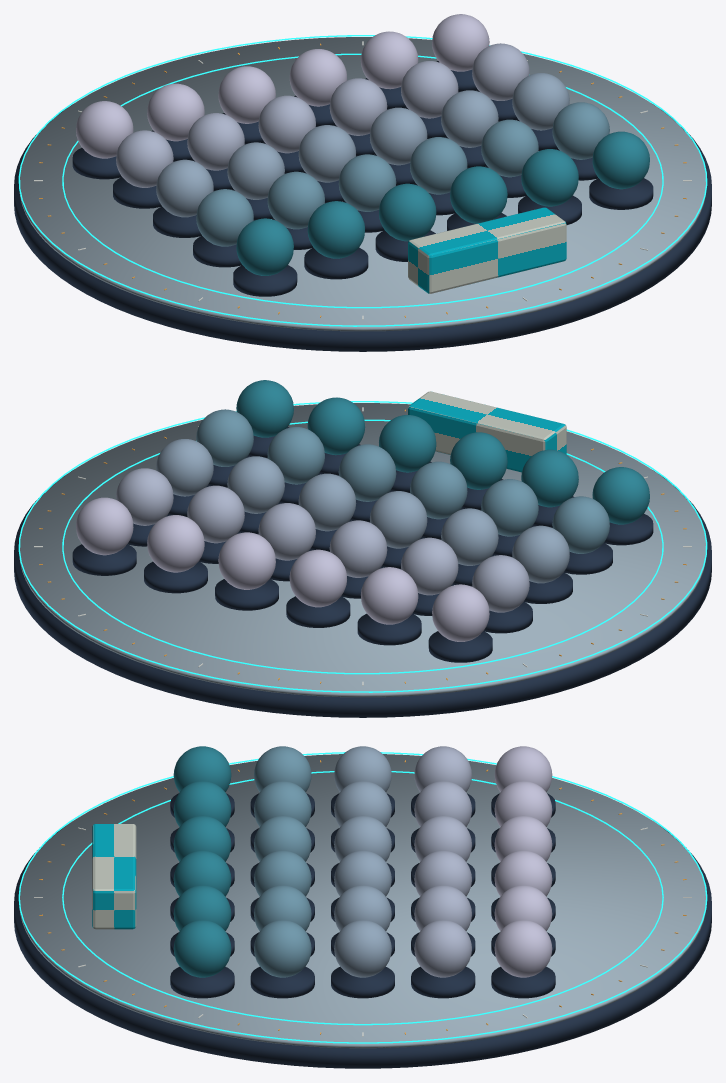
File: hub.glb
3 renders of one model, top to bottom at view 1: azimuth 30°, elevation 25°; view 2: azimuth 150°, elevation 25°; view 3: azimuth 270°, elevation 25°, orthographic.
Visible parts, largest first — view 1: Floating_plinth___crown, Floating_plinth___lower, UV_calibration_block, Concentric_wayfinding, Swatch_R0_C4, Swatch_R0_C5, Swatch_R0_C1, Swatch_R0_C0, Swatch_R0_C3, Swatch_R0_C2, Swatch_R2_C0, Swatch_R3_C0 (+32 smaller); view 2: Floating_plinth___crown, Floating_plinth___lower, UV_calibration_block, Concentric_wayfinding, Swatch_R4_C4, Swatch_R4_C5, Swatch_R4_C1, Swatch_R4_C3, Swatch_R4_C0, Swatch_R4_C2, Swatch_R2_C0, Swatch_R1_C0 (+33 smaller); view 3: Floating_plinth___crown, Floating_plinth___lower, UV_calibration_block, Concentric_wayfinding, Swatch_R0_C5, Swatch_R4_C5, Swatch_R1_C5, Swatch_R2_C5, Swatch_R3_C5, Concentric_wayfinding_001, Swatch_R0_C0, Swatch_R2_C2 (+28 smaller).
Boxes of the visible parts, box(x1,y1,x2,y2) form: Floating_plinth___crown: box(19, 37, 706, 331); Floating_plinth___lower: box(14, 104, 711, 351); UV_calibration_block: box(408, 207, 566, 293); Concentric_wayfinding: box(18, 35, 707, 326); Swatch_R0_C4: box(521, 149, 578, 206); Swatch_R0_C5: box(592, 131, 649, 189); Swatch_R0_C1: box(307, 201, 364, 258); Swatch_R0_C0: box(236, 218, 293, 275); Swatch_R0_C3: box(450, 166, 507, 223); Swatch_R0_C2: box(379, 183, 436, 241); Swatch_R2_C0: box(156, 159, 213, 217); Swatch_R3_C0: box(116, 130, 173, 187); Floating_plinth___crown: box(19, 403, 706, 697); Floating_plinth___lower: box(14, 470, 711, 717); UV_calibration_block: box(408, 391, 566, 472); Concentric_wayfinding: box(18, 401, 707, 692); Swatch_R4_C4: box(147, 515, 204, 572); Swatch_R4_C5: box(76, 497, 133, 555); Swatch_R4_C1: box(361, 567, 418, 624); Swatch_R4_C3: box(218, 532, 275, 589); Swatch_R4_C0: box(432, 584, 489, 641); Swatch_R4_C2: box(289, 549, 346, 607); Swatch_R2_C0: box(512, 525, 569, 583); Swatch_R1_C0: box(552, 496, 609, 553); Floating_plinth___crown: box(19, 754, 706, 1048); Floating_plinth___lower: box(14, 821, 711, 1068); UV_calibration_block: box(92, 824, 136, 929); Concentric_wayfinding: box(18, 752, 707, 1043); Swatch_R0_C5: box(173, 920, 231, 977); Swatch_R4_C5: box(494, 920, 552, 977); Swatch_R1_C5: box(254, 920, 311, 977); Swatch_R2_C5: box(334, 920, 391, 977); Swatch_R3_C5: box(414, 920, 471, 977); Concentric_wayfinding_001: box(62, 771, 663, 1025); Swatch_R0_C0: box(173, 746, 231, 792); Swatch_R2_C2: box(334, 815, 391, 861).
Bounding box in the file's own units: 17.4 × 2.35 × 17.4.
Materials: 36 (1 with a texture image).
